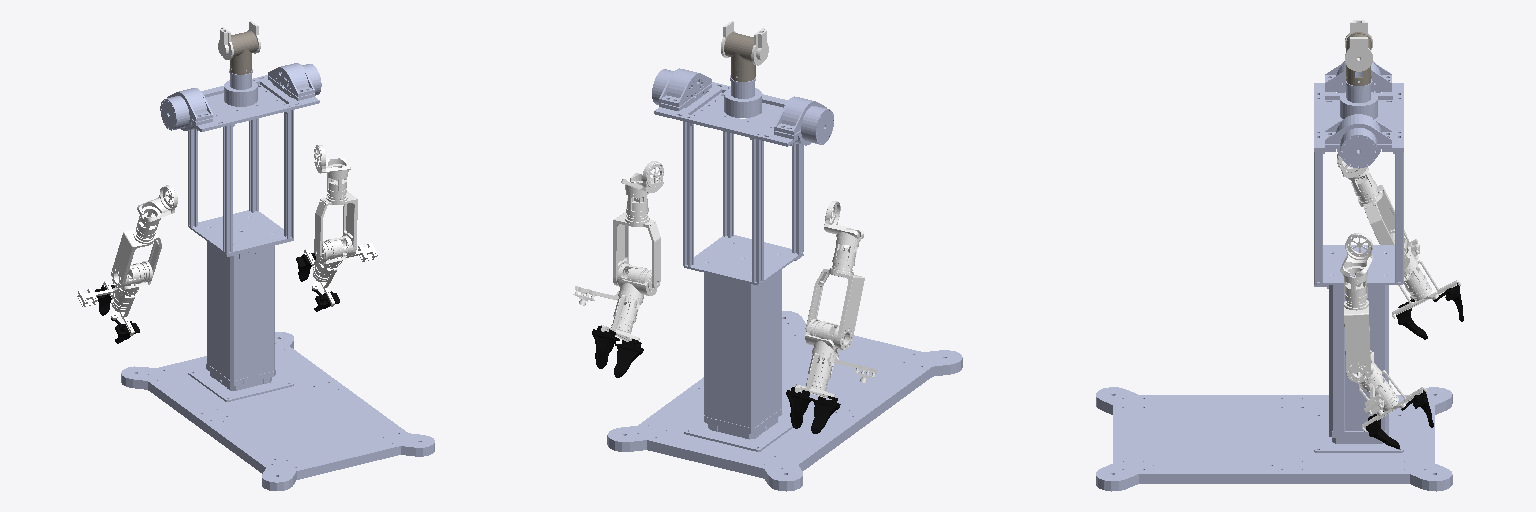
--- Render facts (derived) ---
3 views of the same robot in one strip: view 1: azimuth 30°, elevation 25°; view 2: azimuth 150°, elevation 25°; view 3: azimuth 270°, elevation 25° (orthographic).
Robot: humanoid — 22 links, 21 joints (14 revolute, 4 prismatic, 3 fixed); root link base_link; default pose: every joint at zero.
Visible links, largest first — view 1: base_link, right_wrist_pitch_link, left_wrist_pitch_link, left_elbow_pitch_link, right_elbow_pitch_link, neck_pitch_link, right_wrist_yaw_link, left_wrist_yaw_link, neck_yaw_link; view 2: base_link, left_wrist_pitch_link, right_wrist_pitch_link, right_wrist_yaw_link, left_wrist_yaw_link, right_elbow_pitch_link, left_elbow_pitch_link, neck_pitch_link, neck_yaw_link, right_gripper2_link, right_gripper1_link, left_gripper2_link (+1 smaller); view 3: base_link, right_wrist_pitch_link, right_elbow_pitch_link, left_wrist_yaw_link, left_wrist_pitch_link, right_wrist_yaw_link, neck_yaw_link, left_elbow_pitch_link.
Boxes of the visible links, x1,y1,x2,y2 form: base_link: [121, 63, 434, 490]; right_wrist_pitch_link: [314, 191, 357, 259]; left_wrist_pitch_link: [111, 229, 161, 288]; left_elbow_pitch_link: [135, 185, 177, 241]; right_elbow_pitch_link: [314, 145, 350, 200]; neck_pitch_link: [230, 31, 257, 74]; right_wrist_yaw_link: [304, 242, 345, 306]; left_wrist_yaw_link: [103, 261, 152, 335]; neck_yaw_link: [218, 21, 260, 59]; base_link: [607, 68, 962, 491]; left_wrist_pitch_link: [806, 268, 864, 350]; right_wrist_pitch_link: [613, 212, 660, 288]; right_wrist_yaw_link: [601, 270, 656, 341]; left_wrist_yaw_link: [795, 319, 840, 399]; right_elbow_pitch_link: [621, 161, 663, 221]; left_elbow_pitch_link: [824, 201, 863, 272]; neck_pitch_link: [724, 32, 755, 81]; neck_yaw_link: [721, 21, 768, 65]; right_gripper2_link: [614, 339, 643, 377]; right_gripper1_link: [592, 326, 619, 368]; left_gripper2_link: [811, 396, 840, 433]; base_link: [1096, 61, 1452, 491]; right_wrist_pitch_link: [1344, 300, 1370, 382]; right_elbow_pitch_link: [1340, 233, 1372, 307]; left_wrist_yaw_link: [1392, 246, 1460, 318]; left_wrist_pitch_link: [1358, 185, 1408, 253]; right_wrist_yaw_link: [1353, 350, 1427, 431]; neck_yaw_link: [1345, 20, 1372, 71]; left_elbow_pitch_link: [1337, 154, 1378, 201].
Bounding box of the posed robot: 0.8186 × 0.8257 × 1.02 m (x, y, z).
Meshes: 22 distinct files referenced, 15 mesh visuals loaded (15 binary STL); not drawn: 7 (reference not matched to a file when rendering).

The robot description file, URDF, robot "humanoid":
<?xml version="1.0" encoding="utf-8"?>
<robot
  name="humanoid">
  <link
    name="base_link">
    <inertial>
      <origin
        xyz="1.07784451355147E-06 0.0284280497758001 0.0930501056429116"
        rpy="0 0 0" />
      <mass
        value="25.2827775843096" />
      <inertia
        ixx="1.05306308303982"
        ixy="5.35850857338871E-07"
        ixz="-8.40544864225828E-06"
        iyy="0.379347819173407"
        iyz="4.4668154477851E-06"
        izz="1.39119566760917" />
    </inertial>
    <visual>
      <origin
        xyz="0 0 0"
        rpy="0 0 0" />
      <geometry>
        <mesh
          filename="package://robot_description/meshes/base_link.STL" />
      </geometry>
      <material
        name="">
        <color
          rgba="0.792156862745098 0.819607843137255 0.929411764705882 1" />
      </material>
    </visual>
    <collision>
      <origin
        xyz="0 0 0"
        rpy="0 0 0" />
      <geometry>
        <mesh
          filename="package://robot_description/meshes/base_link.STL" />
      </geometry>
    </collision>
  </link>
  <link
    name="neck_pitch_link">
    <inertial>
      <origin
        xyz="7.01840304657472E-05 0.130777470021731 -0.00331694653990108"
        rpy="0 0 0" />
      <mass
        value="0.148218827310183" />
      <inertia
        ixx="9.52279837773781E-05"
        ixy="-9.91190135430179E-08"
        ixz="1.98844059206848E-07"
        iyy="7.30070921223501E-05"
        iyz="3.47609457314995E-06"
        izz="9.0131560532935E-05" />
    </inertial>
    <visual>
      <origin
        xyz="0 0 0"
        rpy="0 0 0" />
      <geometry>
        <mesh
          filename="package://robot_description/meshes/neck_pitch_link.STL" />
      </geometry>
      <material
        name="">
        <color
          rgba="0.647058823529412 0.619607843137255 0.588235294117647 1" />
      </material>
    </visual>
    <collision>
      <origin
        xyz="0 0 0"
        rpy="0 0 0" />
      <geometry>
        <mesh
          filename="package://robot_description/meshes/neck_pitch_link.STL" />
      </geometry>
    </collision>
  </link>
  <joint
    name="neck_pitch_joint"
    type="revolute">
    <origin
      xyz="0 0.189998253900838 0.835499049600994"
      rpy="1.5707963267949 0 1.5707963267949" />
    <parent
      link="base_link" />
    <child
      link="neck_pitch_link" />
    <axis
      xyz="0 1 0" />
    <limit
      lower="-3.14"
      upper="3.14"
      effort="20"
      velocity="50" />
  </joint>
  <link
    name="neck_yaw_link">
    <inertial>
      <origin
        xyz="-0.00016459752079714 0.00712784323803106 -0.0394648436747978"
        rpy="0 0 0" />
      <mass
        value="0.0765456211575113" />
      <inertia
        ixx="3.23897327523942E-05"
        ixy="-2.65902764441305E-14"
        ixz="-5.98960713926039E-15"
        iyy="1.63880392625728E-05"
        iyz="5.16658827031463E-07"
        izz="4.47591140398881E-05" />
    </inertial>
    <visual>
      <origin
        xyz="0 0 0"
        rpy="0 0 0" />
      <geometry>
        <mesh
          filename="package://robot_description/meshes/neck_yaw_link.STL" />
      </geometry>
      <material
        name="">
        <color
          rgba="1 1 1 0.25" />
      </material>
    </visual>
    <collision>
      <origin
        xyz="0 0 0"
        rpy="0 0 0" />
      <geometry>
        <mesh
          filename="package://robot_description/meshes/neck_yaw_link.STL" />
      </geometry>
    </collision>
  </link>
  <joint
    name="neck_yaw_joint"
    type="revolute">
    <origin
      xyz="0.000164597494633156 0.135935192091684 0.0268002104136432"
      rpy="0 0 0" />
    <parent
      link="neck_pitch_link" />
    <child
      link="neck_yaw_link" />
    <axis
      xyz="0 0 1" />
    <limit
      lower="-3.14"
      upper="3.14"
      effort="20"
      velocity="50" />
  </joint>
  <link
    name="head_camera_link">
    <inertial>
      <origin
        xyz="-0.0538137633177245 4.16333634234434E-17 0"
        rpy="0 0 0" />
      <mass
        value="0.398240212565594" />
      <inertia
        ixx="0.00225801965865169"
        ixy="3.25260651745651E-19"
        ixz="2.29715335295366E-18"
        iyy="0.00143841223628256"
        iyz="-1.12485975395371E-18"
        izz="0.00239435389760271" />
    </inertial>
    <visual>
      <origin
        xyz="0 0 0"
        rpy="0 0 0" />
      <geometry>
        <mesh
          filename="package://robot_description/meshes/head_camera_link.STL" />
      </geometry>
      <material
        name="">
        <color
          rgba="1 1 1 1" />
      </material>
    </visual>
    <collision>
      <origin
        xyz="0 0 0"
        rpy="0 0 0" />
      <geometry>
        <mesh
          filename="package://robot_description/meshes/head_camera_link.STL" />
      </geometry>
    </collision>
  </link>
  <joint
    name="head_camera_joint"
    type="fixed">
    <origin
      xyz="0.0498354025053677 0.109164807908296 -0.0267999999999801"
      rpy="-1.5707963267949 0 0" />
    <parent
      link="neck_yaw_link" />
    <child
      link="head_camera_link" />
    <axis
      xyz="0 0 0" />
    <limit
      lower="3.14"
      upper="3.14"
      effort="3.14"
      velocity="3.14" />
  </joint>
  <link
    name="right_base_pitch_link">
    <inertial>
      <origin
        xyz="-0.0394540906091678 -0.00117049156839028 0.0362772096702395"
        rpy="0 0 0" />
      <mass
        value="0.244817289982652" />
      <inertia
        ixx="0.00042258611468929"
        ixy="-3.33213778042763E-07"
        ixz="6.13148868322963E-05"
        iyy="0.00043362815715413"
        iyz="1.84861840406614E-06"
        izz="0.000449580199614448" />
    </inertial>
    <visual>
      <origin
        xyz="0 0 0"
        rpy="0 0 0" />
      <geometry>
        <mesh
          filename="package://robot_description/meshes/right_base_pitch_link.STL" />
      </geometry>
      <material
        name="">
        <color
          rgba="1 1 1 1" />
      </material>
    </visual>
    <collision>
      <origin
        xyz="0 0 0"
        rpy="0 0 0" />
      <geometry>
        <mesh
          filename="package://robot_description/meshes/right_base_pitch_link.STL" />
      </geometry>
    </collision>
  </link>
  <joint
    name="right_base_pitch_joint"
    type="revolute">
    <origin
      xyz="0.21400441954841 0.189998253900819 0.822999049601032"
      rpy="1.5707963267949 0 1.5707963267949" />
    <parent
      link="base_link" />
    <child
      link="right_base_pitch_link" />
    <axis
      xyz="0 0 -1" />
    <limit
      lower="-3.14"
      upper="3.14"
      effort="20"
      velocity="50" />
  </joint>
  <link
    name="right_shoulder_roll_link">
    <inertial>
      <origin
        xyz="-0.0504751969032359 -2.3505993093087E-06 -0.0382593125478601"
        rpy="0 0 0" />
      <mass
        value="0.219562602027133" />
      <inertia
        ixx="0.000414250305228579"
        ixy="-5.1544201930132E-09"
        ixz="-8.79018796006794E-05"
        iyy="0.000412104091228023"
        iyz="-6.24422590434745E-08"
        izz="0.000365288665382115" />
    </inertial>
    <visual>
      <origin
        xyz="0 0 0"
        rpy="0 0 0" />
      <geometry>
        <mesh
          filename="package://robot_description/meshes/right_shoulder_roll_link.STL" />
      </geometry>
      <material
        name="">
        <color
          rgba="1 1 1 1" />
      </material>
    </visual>
    <collision>
      <origin
        xyz="0 0 0"
        rpy="0 0 0" />
      <geometry>
        <mesh
          filename="package://robot_description/meshes/right_shoulder_roll_link.STL" />
      </geometry>
    </collision>
  </link>
  <joint
    name="right_shoulder_roll_joint"
    type="revolute">
    <origin
      xyz="0.0512767086241353 0.00154568843845215 0.070000086877735"
      rpy="1.57079632679489 -0.0124370994640314 1.60093654227117" />
    <parent
      link="right_base_pitch_link" />
    <child
      link="right_shoulder_roll_link" />
    <axis
      xyz="0 0 -1" />
    <limit
      lower="-3.14"
      upper="3.14"
      effort="20"
      velocity="50" />
  </joint>
  <link
    name="right_shoulder_yaw_link">
    <inertial>
      <origin
        xyz="-0.020385273211367 -8.15235141520682E-06 0.0357353445479509"
        rpy="0 0 0" />
      <mass
        value="0.106143604615312" />
      <inertia
        ixx="9.66386839936161E-05"
        ixy="-4.74531869270227E-09"
        ixz="2.12882628388833E-05"
        iyy="0.000122064598284769"
        iyz="-6.1579299009481E-08"
        izz="0.00010313012003071" />
    </inertial>
    <visual>
      <origin
        xyz="0 0 0"
        rpy="0 0 0" />
      <geometry>
        <mesh
          filename="package://robot_description/meshes/right_shoulder_yaw_link.STL" />
      </geometry>
      <material
        name="">
        <color
          rgba="1 1 1 1" />
      </material>
    </visual>
    <collision>
      <origin
        xyz="0 0 0"
        rpy="0 0 0" />
      <geometry>
        <mesh
          filename="package://robot_description/meshes/right_shoulder_yaw_link.STL" />
      </geometry>
    </collision>
  </link>
  <joint
    name="right_shoulder_yaw_joint"
    type="revolute">
    <origin
      xyz="-0.161499730454391 0 -0.0674997882054564"
      rpy="1.5707963267949 -0.209915812016821 -1.5707963267949" />
    <parent
      link="right_shoulder_roll_link" />
    <child
      link="right_shoulder_yaw_link" />
    <axis
      xyz="0 0 1" />
    <limit
      lower="-3.14"
      upper="3.14"
      effort="20"
      velocity="50" />
  </joint>
  <link
    name="right_elbow_pitch_link">
    <inertial>
      <origin
        xyz="-3.42841572391756E-05 0.0729459113904672 -0.0410111671034344"
        rpy="0 0 0" />
      <mass
        value="0.154099206711241" />
      <inertia
        ixx="8.75612800169932E-05"
        ixy="-8.24914993394397E-08"
        ixz="2.8611763084907E-08"
        iyy="8.00343513136428E-05"
        iyz="9.62612120488893E-06"
        izz="7.60282435942892E-05" />
    </inertial>
    <visual>
      <origin
        xyz="0 0 0"
        rpy="0 0 0" />
      <geometry>
        <mesh
          filename="package://robot_description/meshes/right_elbow_pitch_link.STL" />
      </geometry>
      <material
        name="">
        <color
          rgba="1 1 1 1" />
      </material>
    </visual>
    <collision>
      <origin
        xyz="0 0 0"
        rpy="0 0 0" />
      <geometry>
        <mesh
          filename="package://robot_description/meshes/right_elbow_pitch_link.STL" />
      </geometry>
    </collision>
  </link>
  <joint
    name="right_elbow_pitch_joint"
    type="revolute">
    <origin
      xyz="0.0495000377373268 0 0.0624999168897828"
      rpy="1.5707963267949 0.00263601886731738 1.5707963267949" />
    <parent
      link="right_shoulder_yaw_link" />
    <child
      link="right_elbow_pitch_link" />
    <axis
      xyz="-0.333848242516012 0.0592718558412337 0.940761499039" />
    <limit
      lower="-3.14"
      upper="3.14"
      effort="20"
      velocity="50" />
  </joint>
  <link
    name="right_wrist_pitch_link">
    <inertial>
      <origin
        xyz="2.75788182445003E-05 -0.000871878112892799 0.104186529687359"
        rpy="0 0 0" />
      <mass
        value="0.192205595442942" />
      <inertia
        ixx="0.000302459654412395"
        ixy="8.24266800328281E-08"
        ixz="2.75449341259816E-08"
        iyy="0.00028537077989617"
        iyz="3.77471294040012E-05"
        izz="9.91159076780823E-05" />
    </inertial>
    <visual>
      <origin
        xyz="0 0 0"
        rpy="0 0 0" />
      <geometry>
        <mesh
          filename="package://robot_description/meshes/right_wrist_pitch_link.STL" />
      </geometry>
      <material
        name="">
        <color
          rgba="1 1 1 1" />
      </material>
    </visual>
    <collision>
      <origin
        xyz="0 0 0"
        rpy="0 0 0" />
      <geometry>
        <mesh
          filename="package://robot_description/meshes/right_wrist_pitch_link.STL" />
      </geometry>
    </collision>
  </link>
  <joint
    name="right_wrist_pitch_joint"
    type="revolute">
    <origin
      xyz="0 0.126500083668823 -0.0495002104136634"
      rpy="1.5707963267949 0.208003209624867 3.14159265358979" />
    <parent
      link="right_elbow_pitch_link" />
    <child
      link="right_wrist_pitch_link" />
    <axis
      xyz="0 0 -1" />
    <limit
      lower="-3.14"
      upper="3.14"
      effort="20"
      velocity="50" />
  </joint>
  <link
    name="right_wrist_yaw_link">
    <inertial>
      <origin
        xyz="7.27612933126079E-05 0.0809191230537369 -0.0386606819862753"
        rpy="0 0 0" />
      <mass
        value="0.175438598998815" />
      <inertia
        ixx="9.6324565447174E-05"
        ixy="1.37624512021152E-07"
        ixz="2.89958169269242E-06"
        iyy="0.000109953050418614"
        iyz="5.03326002219079E-06"
        izz="0.000125124839716495" />
    </inertial>
    <visual>
      <origin
        xyz="0 0 0"
        rpy="0 0 0" />
      <geometry>
        <mesh
          filename="package://robot_description/meshes/right_wrist_yaw_link.STL" />
      </geometry>
      <material
        name="">
        <color
          rgba="1 1 1 1" />
      </material>
    </visual>
    <collision>
      <origin
        xyz="0 0 0"
        rpy="0 0 0" />
      <geometry>
        <mesh
          filename="package://robot_description/meshes/right_wrist_yaw_link.STL" />
      </geometry>
    </collision>
  </link>
  <joint
    name="right_wrist_yaw_joint"
    type="revolute">
    <origin
      xyz="0 0.0414999999999797 0.140500210413661"
      rpy="1.5707963267949 0.575197538261195 3.14159265358979" />
    <parent
      link="right_wrist_pitch_link" />
    <child
      link="right_wrist_yaw_link" />
    <axis
      xyz="0 0 -1" />
    <limit
      lower="-3.14"
      upper="3.14"
      effort="20"
      velocity="50" />
  </joint>
  <link
    name="right_gripper1_link">
    <inertial>
      <origin
        xyz="-0.0594271349448385 -0.0021592700647648 0.0242071304277063"
        rpy="0 0 0" />
      <mass
        value="0.0358339207664623" />
      <inertia
        ixx="1.96900849491953E-05"
        ixy="1.49577745788164E-07"
        ixz="-2.61611297419697E-06"
        iyy="1.51820051704718E-05"
        iyz="4.68868627254808E-07"
        izz="8.95629031357462E-06" />
    </inertial>
    <visual>
      <origin
        xyz="0 0 0"
        rpy="0 0 0" />
      <geometry>
        <mesh
          filename="package://robot_description/meshes/right_gripper1_link.STL" />
      </geometry>
      <material
        name="">
        <color
          rgba="0.0980392156862745 0.0980392156862745 0.0980392156862745 1" />
      </material>
    </visual>
    <collision>
      <origin
        xyz="0 0 0"
        rpy="0 0 0" />
      <geometry>
        <mesh
          filename="package://robot_description/meshes/right_gripper1_link.STL" />
      </geometry>
    </collision>
  </link>
  <joint
    name="right_gripper1_joint"
    type="prismatic">
    <origin
      xyz="0 0.141000000000003 -0.0424999999999999"
      rpy="1.5707963267949 0 3.14159265358979" />
    <parent
      link="right_wrist_yaw_link" />
    <child
      link="right_gripper1_link" />
    <axis
      xyz="-1 0 0" />
    <limit
      lower="0"
      upper="0.03"
      effort="20"
      velocity="50" />
  </joint>
  <link
    name="right_gripper2_link">
    <inertial>
      <origin
        xyz="0.0596503865175193 0.0019659579201895 0.0221271099610874"
        rpy="0 0 0" />
      <mass
        value="0.0393551869062514" />
      <inertia
        ixx="1.98397159910276E-05"
        ixy="1.49583238832345E-07"
        ixz="2.6160400152461E-06"
        iyy="1.54499686755966E-05"
        iyz="-4.68723727640429E-07"
        izz="9.3435573957773E-06" />
    </inertial>
    <visual>
      <origin
        xyz="0 0 0"
        rpy="0 0 0" />
      <geometry>
        <mesh
          filename="package://robot_description/meshes/right_gripper2_link.STL" />
      </geometry>
      <material
        name="">
        <color
          rgba="0.0980392156862745 0.0980392156862745 0.0980392156862745 1" />
      </material>
    </visual>
    <collision>
      <origin
        xyz="0 0 0"
        rpy="0 0 0" />
      <geometry>
        <mesh
          filename="package://robot_description/meshes/right_gripper2_link.STL" />
      </geometry>
    </collision>
  </link>
  <joint
    name="right_gripper2_joint"
    type="prismatic">
    <origin
      xyz="0 0.141000000000003 -0.0424999999999999"
      rpy="1.5707963267949 0 3.14159265358979" />
    <parent
      link="right_wrist_yaw_link" />
    <child
      link="right_gripper2_link" />
    <axis
      xyz="-1 0 0" />
    <mimic joint="right_gripper1_joint" multiplier="-1.0" />
    <limit
      lower="-0.03"
      upper="0"
      effort="20"
      velocity="50" />
  </joint>
  <link
    name="right_camera_link">
    <inertial>
      <origin
        xyz="-0.0114169669754792 0.0212636187934237 2.88094353928514E-09"
        rpy="0 0 0" />
      <mass
        value="0.0226998455840004" />
      <inertia
        ixx="2.58527414343368E-05"
        ixy="1.1600323718797E-06"
        ixz="4.88501458827519E-13"
        iyy="2.38075275750142E-06"
        iyz="-3.21125084462628E-12"
        izz="2.45019772015967E-05" />
    </inertial>
    <visual>
      <origin
        xyz="0 0 0"
        rpy="0 0 0" />
      <geometry>
        <mesh
          filename="package://robot_description/meshes/right_camera_link.STL" />
      </geometry>
      <material
        name="">
        <color
          rgba="1 1 1 1" />
      </material>
    </visual>
    <collision>
      <origin
        xyz="0 0 0"
        rpy="0 0 0" />
      <geometry>
        <mesh
          filename="package://robot_description/meshes/right_camera_link.STL" />
      </geometry>
    </collision>
  </link>
  <joint
    name="right_camera_joint"
    type="fixed">
    <origin
      xyz="-0.0391680397915273 -0.11500000000002 0.200914320180246"
      rpy="-3.14159265358978 -0.995598788533701 -3.14159265358979" />
    <parent
      link="right_wrist_pitch_link" />
    <child
      link="right_camera_link" />
    <axis
      xyz="0.0790644615829094 0.996083645985627 0.0395750061855195" />
    <limit
      lower="3.14"
      upper="3.14"
      effort="3.14"
      velocity="3.14" />
  </joint>
  <link
    name="left_base_pitch_link">
    <inertial>
      <origin
        xyz="-0.03944182710006 -0.00152845155914194 0.0362690454576601"
        rpy="0 0 0" />
      <mass
        value="0.244817361510199" />
      <inertia
        ixx="0.000422591073242316"
        ixy="-3.83795654275043E-07"
        ixz="6.13829987729351E-05"
        iyy="0.000432397607788544"
        iyz="1.68051540593824E-07"
        izz="0.000450805804784789" />
    </inertial>
    <visual>
      <origin
        xyz="0 0 0"
        rpy="0 0 0" />
      <geometry>
        <mesh
          filename="package://robot_description/meshes/left_base_pitch_link.STL" />
      </geometry>
      <material
        name="">
        <color
          rgba="1 1 1 1" />
      </material>
    </visual>
    <collision>
      <origin
        xyz="0 0 0"
        rpy="0 0 0" />
      <geometry>
        <mesh
          filename="package://robot_description/meshes/left_base_pitch_link.STL" />
      </geometry>
    </collision>
  </link>
  <joint
    name="left_base_pitch_joint"
    type="revolute">
    <origin
      xyz="-0.213995580451608 0.18999825390085 0.822999049601032"
      rpy="-1.5707963267949 0 1.5707963267949" />
    <parent
      link="base_link" />
    <child
      link="left_base_pitch_link" />
    <axis
      xyz="0 0 1" />
    <limit
      lower="-3.14"
      upper="3.14"
      effort="20"
      velocity="50" />
  </joint>
  <link
    name="left_shoulder_roll_link">
    <inertial>
      <origin
        xyz="0.0504756732403198 -2.46635897149794E-06 -0.0382670921109684"
        rpy="0 0 0" />
      <mass
        value="0.219562602025694" />
      <inertia
        ixx="0.000414250305226946"
        ixy="5.14066613970505E-09"
        ixz="8.78921299241681E-05"
        iyy="0.000412104442343155"
        iyz="6.2007231242088E-08"
        izz="0.00036528831426658" />
    </inertial>
    <visual>
      <origin
        xyz="0 0 0"
        rpy="0 0 0" />
      <geometry>
        <mesh
          filename="package://robot_description/meshes/left_shoulder_roll_link.STL" />
      </geometry>
      <material
        name="">
        <color
          rgba="1 1 1 1" />
      </material>
    </visual>
    <collision>
      <origin
        xyz="0 0 0"
        rpy="0 0 0" />
      <geometry>
        <mesh
          filename="package://robot_description/meshes/left_shoulder_roll_link.STL" />
      </geometry>
    </collision>
  </link>
  <joint
    name="left_shoulder_roll_joint"
    type="revolute">
    <origin
      xyz="0.0512608845048458 0.00200292781174632 0.0700002065331428"
      rpy="1.5707963267949 0.0572282794585209 1.6098534872918" />
    <parent
      link="left_base_pitch_link" />
    <child
      link="left_shoulder_roll_link" />
    <axis
      xyz="0 0 1" />
    <limit
      lower="-3.14"
      upper="3.14"
      effort="20"
      velocity="50" />
  </joint>
  <link
    name="left_shoulder_yaw_link">
    <inertial>
      <origin
        xyz="0.0203852048517859 3.01779778964784E-06 0.0387394862827194"
        rpy="0 0 0" />
      <mass
        value="0.106143599746768" />
      <inertia
        ixx="9.66386800285855E-05"
        ixy="-6.92480790310884E-09"
        ixz="-2.1292772309331E-05"
        iyy="0.00012207057327241"
        iyz="-6.92239720606759E-08"
        izz="0.00010312414056542" />
    </inertial>
    <visual>
      <origin
        xyz="0 0 0"
        rpy="0 0 0" />
      <geometry>
        <mesh
          filename="package://robot_description/meshes/left_shoulder_yaw_link.STL" />
      </geometry>
      <material
        name="">
        <color
          rgba="1 1 1 1" />
      </material>
    </visual>
    <collision>
      <origin
        xyz="0 0 0"
        rpy="0 0 0" />
      <geometry>
        <mesh
          filename="package://robot_description/meshes/left_shoulder_yaw_link.STL" />
      </geometry>
    </collision>
  </link>
  <joint
    name="left_shoulder_yaw_joint"
    type="revolute">
    <origin
      xyz="0.161500206792132 0 -0.0675002120298684"
      rpy="1.5707963267949 0.127054181766171 1.5707963267949" />
    <parent
      link="left_shoulder_roll_link" />
    <child
      link="left_shoulder_yaw_link" />
    <axis
      xyz="0 0 1" />
    <limit
      lower="-3.14"
      upper="3.14"
      effort="20"
      velocity="50" />
  </joint>
  <link
    name="left_elbow_pitch_link">
    <inertial>
      <origin
        xyz="7.07768641869111E-05 0.0729456723984567 -0.0410914590768398"
        rpy="0 0 0" />
      <mass
        value="0.154099169383945" />
      <inertia
        ixx="8.74785494949814E-05"
        ixy="2.61941007548108E-07"
        ixz="4.53756275437878E-08"
        iyy="8.00343035751047E-05"
        iyz="9.22673260793295E-06"
        izz="7.61109498248455E-05" />
    </inertial>
    <visual>
      <origin
        xyz="0 0 0"
        rpy="0 0 0" />
      <geometry>
        <mesh
          filename="package://robot_description/meshes/left_elbow_pitch_link.STL" />
      </geometry>
      <material
        name="">
        <color
          rgba="1 1 1 1" />
      </material>
    </visual>
    <collision>
      <origin
        xyz="0 0 0"
        rpy="0 0 0" />
      <geometry>
        <mesh
          filename="package://robot_description/meshes/left_elbow_pitch_link.STL" />
      </geometry>
    </collision>
  </link>
  <joint
    name="left_elbow_pitch_joint"
    type="revolute">
    <origin
      xyz="-0.0495001093071362 0 0.0655000777356621"
      rpy="1.5707963267949 -0.456186992961128 -1.5707963267949" />
    <parent
      link="left_shoulder_yaw_link" />
    <child
      link="left_elbow_pitch_link" />
    <axis
      xyz="0 0 1" />
    <limit
      lower="-3.14"
      upper="3.14"
      effort="20"
      velocity="50" />
  </joint>
  <link
    name="left_wrist_pitch_link">
    <inertial>
      <origin
        xyz="-4.68439746814861E-05 -0.000871876921878401 0.104203137099242"
        rpy="0 0 0" />
      <mass
        value="0.192205491051058" />
      <inertia
        ixx="0.000302371428903046"
        ixy="-2.63172936807209E-07"
        ixz="-4.15138144826291E-08"
        iyy="0.000285370627704525"
        iyz="3.79042961472345E-05"
        izz="9.92039705376368E-05" />
    </inertial>
    <visual>
      <origin
        xyz="0 0 0"
        rpy="0 0 0" />
      <geometry>
        <mesh
          filename="package://robot_description/meshes/left_wrist_pitch_link.STL" />
      </geometry>
      <material
        name="">
        <color
          rgba="1 1 1 1" />
      </material>
    </visual>
    <collision>
      <origin
        xyz="0 0 0"
        rpy="0 0 0" />
      <geometry>
        <mesh
          filename="package://robot_description/meshes/left_wrist_pitch_link.STL" />
      </geometry>
    </collision>
  </link>
  <joint
    name="left_wrist_pitch_joint"
    type="revolute">
    <origin
      xyz="0 0.126499835914674 -0.0494999999999997"
      rpy="1.5707963267949 -0.171337297578539 -3.14159265358979" />
    <parent
      link="left_elbow_pitch_link" />
    <child
      link="left_wrist_pitch_link" />
    <axis
      xyz="0 0 1" />
    <limit
      lower="-3.14"
      upper="3.14"
      effort="20"
      velocity="50" />
  </joint>
  <link
    name="left_wrist_yaw_link">
    <inertial>
      <origin
        xyz="1.8321381735055E-05 0.080809432361566 -0.0385984001620683"
        rpy="0 0 0" />
      <mass
        value="0.175099344991619" />
      <inertia
        ixx="9.63204266828382E-05"
        ixy="1.37572954355653E-07"
        ixz="2.8996374938886E-06"
        iyy="0.000109945415386354"
        iyz="5.03325452482642E-06"
        izz="0.000125120516099222" />
    </inertial>
    <visual>
      <origin
        xyz="0 0 0"
        rpy="0 0 0" />
      <geometry>
        <mesh
          filename="package://robot_description/meshes/left_wrist_yaw_link.STL" />
      </geometry>
      <material
        name="">
        <color
          rgba="1 1 1 1" />
      </material>
    </visual>
    <collision>
      <origin
        xyz="0 0 0"
        rpy="0 0 0" />
      <geometry>
        <mesh
          filename="package://robot_description/meshes/left_wrist_yaw_link.STL" />
      </geometry>
    </collision>
  </link>
  <joint
    name="left_wrist_yaw_joint"
    type="revolute">
    <origin
      xyz="0 0.0414999999999796 0.140500028913089"
      rpy="1.5707963267949 -0.0980347229909209 3.14159265358979" />
    <parent
      link="left_wrist_pitch_link" />
    <child
      link="left_wrist_yaw_link" />
    <axis
      xyz="0 0 -1" />
    <limit
      lower="-3.14"
      upper="3.14"
      effort="20"
      velocity="50" />
  </joint>
  <link
    name="left_gripper1_link">
    <inertial>
      <origin
        xyz="0.0593998317801899 0.00197506897058886 0.0245165047230118"
        rpy="0 0 0" />
      <mass
        value="0.0354364112817198" />
      <inertia
        ixx="1.96838533064286E-05"
        ixy="1.49528241959521E-07"
        ixz="2.61581514641577E-06"
        iyy="1.51756929438855E-05"
        iyz="-4.68756631362095E-07"
        izz="8.95265264035998E-06" />
    </inertial>
    <visual>
      <origin
        xyz="0 0 0"
        rpy="0 0 0" />
      <geometry>
        <mesh
          filename="package://robot_description/meshes/left_gripper1_link.STL" />
      </geometry>
      <material
        name="">
        <color
          rgba="0.0980392156862745 0.0980392156862745 0.0980392156862745 1" />
      </material>
    </visual>
    <collision>
      <origin
        xyz="0 0 0"
        rpy="0 0 0" />
      <geometry>
        <mesh
          filename="package://robot_description/meshes/left_gripper1_link.STL" />
      </geometry>
    </collision>
  </link>
  <joint
    name="left_gripper1_joint"
    type="prismatic">
    <origin
      xyz="0 0.14099995082628 -0.0425000000000004"
      rpy="1.5707963267949 0 -3.14159265358979" />
    <parent
      link="left_wrist_yaw_link" />
    <child
      link="left_gripper1_link" />
    <axis
      xyz="-1 0 0" />
    <limit
      lower="0"
      upper="0.03"
      effort="20"
      velocity="50" />
  </joint>
  <link
    name="left_gripper2_link">
    <inertial>
      <origin
        xyz="-0.0593992496111781 -0.00197501295200414 0.0245167055289283"
        rpy="0 0 0" />
      <mass
        value="0.0354366119716677" />
      <inertia
        ixx="1.96844205449425E-05"
        ixy="1.49584437236235E-07"
        ixz="-2.61603389629978E-06"
        iyy="1.51761628338051E-05"
        iyz="4.68724850359594E-07"
        izz="8.9529027072796E-06" />
    </inertial>
    <visual>
      <origin
        xyz="0 0 0"
        rpy="0 0 0" />
      <geometry>
        <mesh
          filename="package://robot_description/meshes/left_gripper2_link.STL" />
      </geometry>
      <material
        name="">
        <color
          rgba="0.0980392156862745 0.0980392156862745 0.0980392156862745 1" />
      </material>
    </visual>
    <collision>
      <origin
        xyz="0 0 0"
        rpy="0 0 0" />
      <geometry>
        <mesh
          filename="package://robot_description/meshes/left_gripper2_link.STL" />
      </geometry>
    </collision>
  </link>
  <joint
    name="left_gripper2_joiint"
    type="prismatic">
    <origin
      xyz="0 0.14099995082628 -0.0425000000000004"
      rpy="1.5707963267949 0 -3.14159265358979" />
    <parent
      link="left_wrist_yaw_link" />
    <child
      link="left_gripper2_link" />
    <axis
      xyz="-1 0 0" />
    <mimic joint="left_gripper1_joint" multiplier="-1.0" />
    <limit
      lower="-0.03"
      upper="0"
      effort="20"
      velocity="50" />
  </joint>
  <link
    name="left_camera_link">
    <inertial>
      <origin
        xyz="-0.0114169668773913 2.94537169653886E-09 -0.0212636184254099"
        rpy="0 0 0" />
      <mass
        value="0.0226998454051643" />
      <inertia
        ixx="2.58527411194455E-05"
        ixy="4.96496635109783E-13"
        ixz="-1.16003231124756E-06"
        iyy="2.45019768869048E-05"
        iyz="3.29652727201937E-12"
        izz="2.38075273646055E-06" />
    </inertial>
    <visual>
      <origin
        xyz="0 0 0"
        rpy="0 0 0" />
      <geometry>
        <mesh
          filename="package://robot_description/meshes/left_camera_link.STL" />
      </geometry>
      <material
        name="">
        <color
          rgba="1 1 1 1" />
      </material>
    </visual>
    <collision>
      <origin
        xyz="0 0 0"
        rpy="0 0 0" />
      <geometry>
        <mesh
          filename="package://robot_description/meshes/left_camera_link.STL" />
      </geometry>
    </collision>
  </link>
  <joint
    name="left_camera_joint"
    type="fixed">
    <origin
      xyz="0.00704719917372136 -0.115000000000021 0.212154287965243"
      rpy="1.57079632679491 -1.47276160380397 0" />
    <parent
      link="left_wrist_pitch_link" />
    <child
      link="left_camera_link" />
    <axis
      xyz="0.0932272804543212 0.144218272221705 0.985139907574232" />
    <limit
      lower="3.14"
      upper="3.14"
      effort="3.14"
      velocity="3.14" />
  </joint>
</robot>
